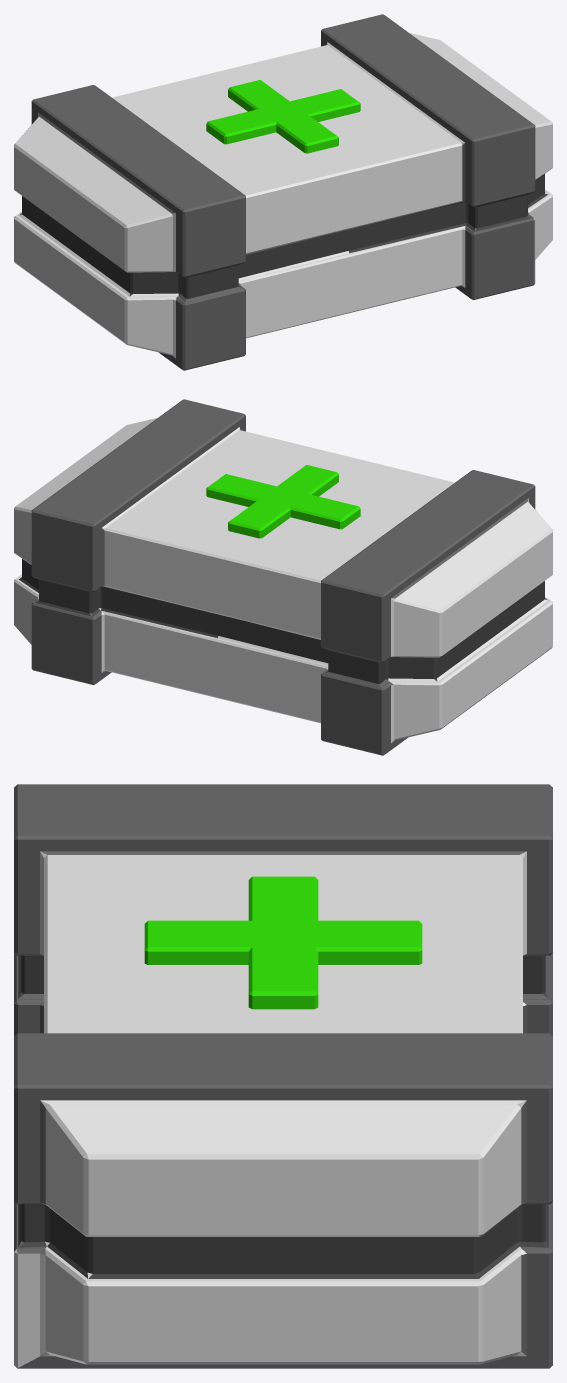
The model's file is HealthBox.fbx.
The picture shows the model from 3 angles, top to bottom: view 1: azimuth 30°, elevation 25°; view 2: azimuth 150°, elevation 25°; view 3: azimuth 270°, elevation 25°; orthographic projection. The views are drawn at different scales.
Parts seen in each view (by area): view 1: HealthKitMesh; view 2: HealthKitMesh; view 3: HealthKitMesh.
Part boxes in pixels (bbox=[...]): HealthKitMesh: bbox=[14, 14, 552, 370]; HealthKitMesh: bbox=[14, 399, 552, 755]; HealthKitMesh: bbox=[14, 784, 552, 1368].
Bounding box in the file's own units: 3.64 × 1.31 × 2.25.
